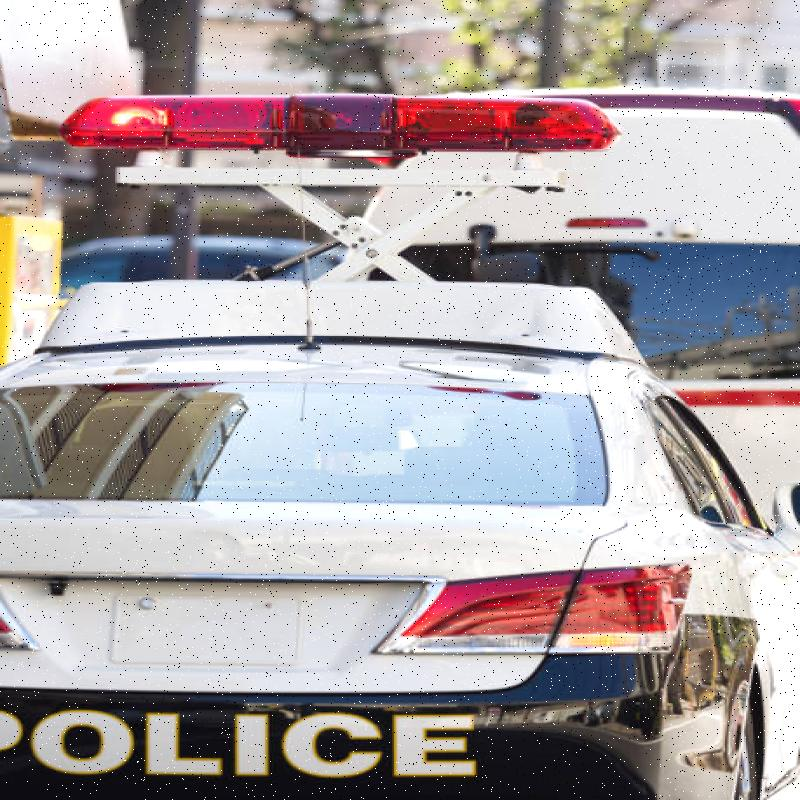AmbulanceSiren: (63, 72, 625, 216)
